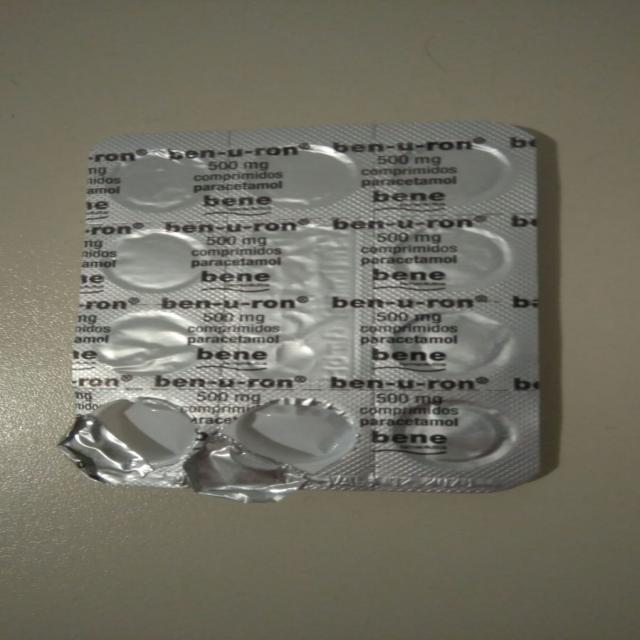Empty: (221, 396, 358, 478), (69, 396, 206, 475)
Pill: (384, 396, 532, 475), (375, 224, 520, 302), (372, 140, 518, 212), (375, 311, 534, 377), (78, 304, 206, 383), (223, 307, 358, 381), (240, 141, 360, 215), (233, 223, 356, 295), (90, 225, 214, 295), (102, 146, 214, 218)
